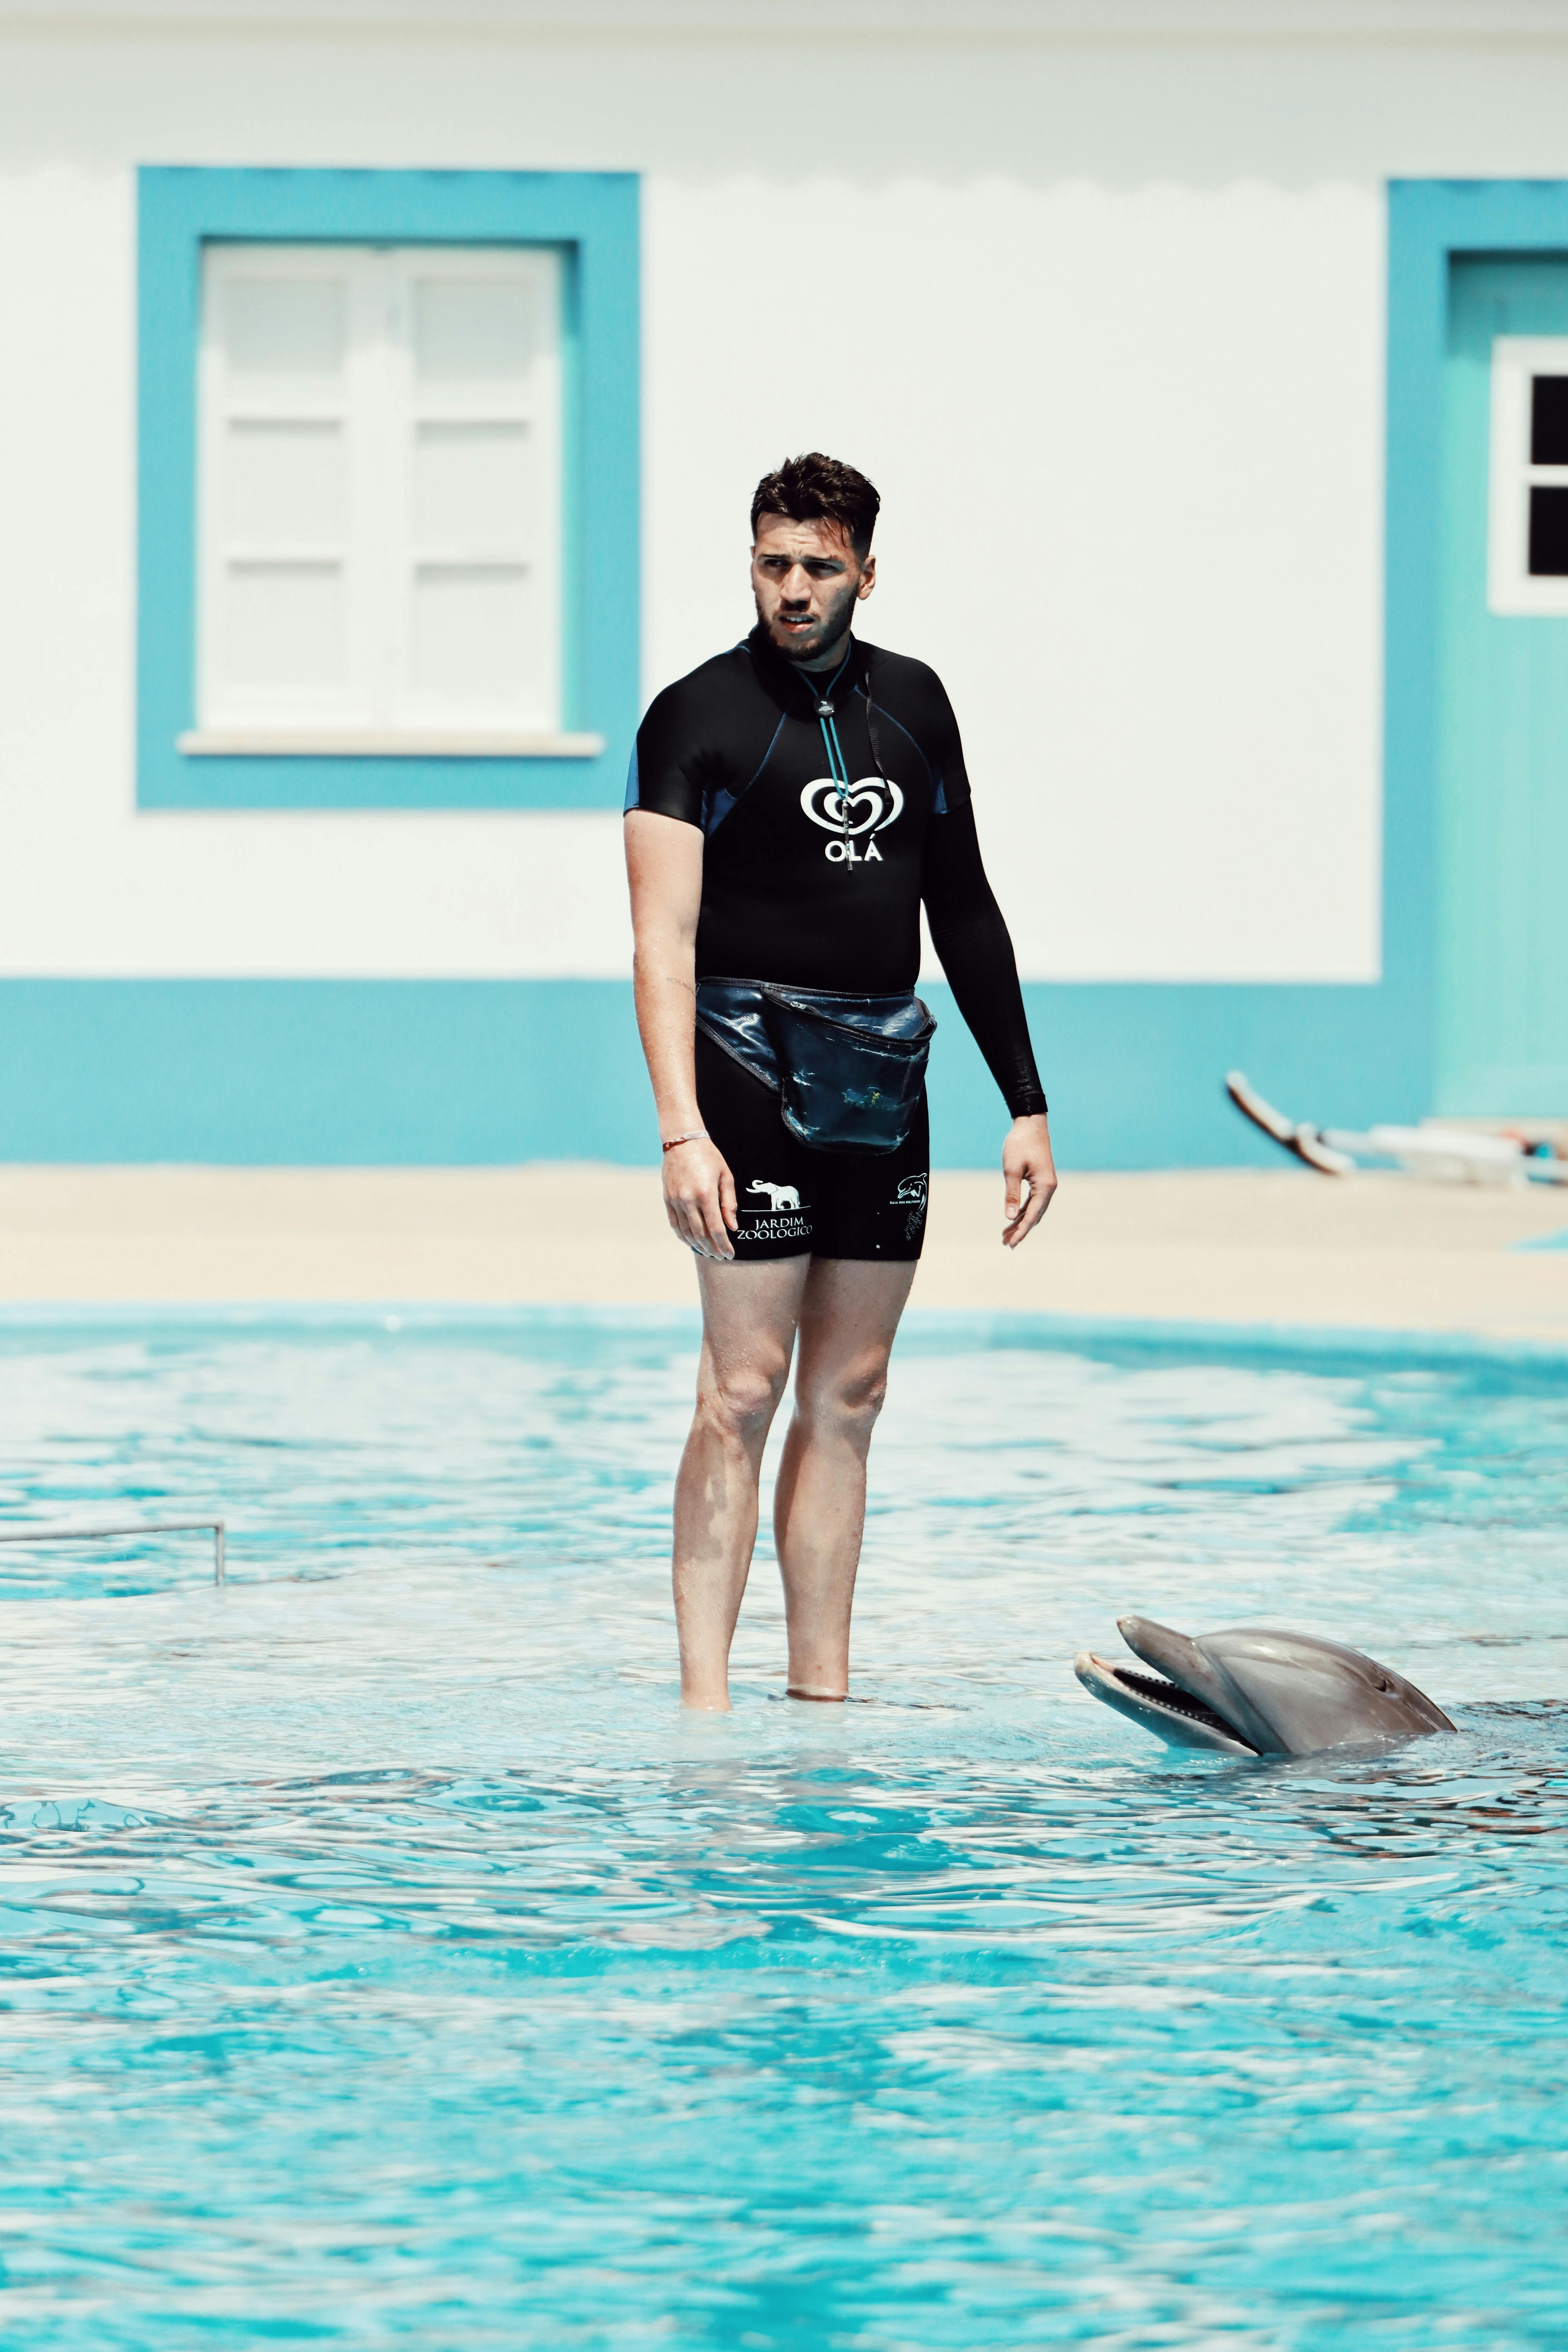dolphin: (1076, 1608, 1470, 1768)
